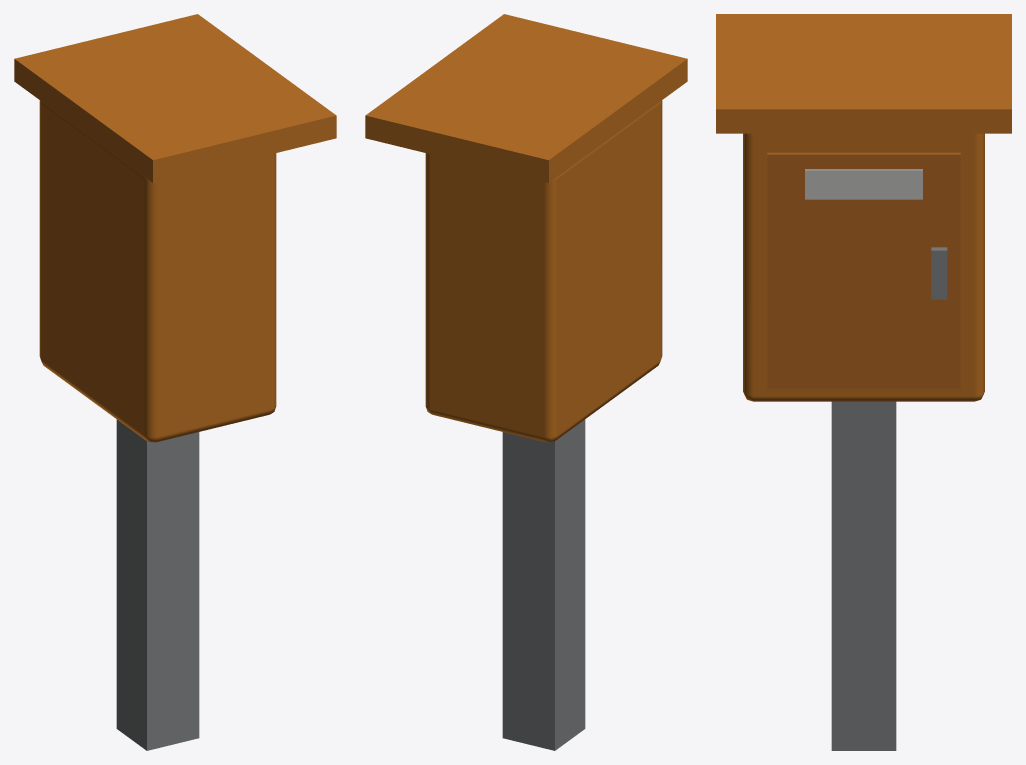
File: SM_Prop_fast_phone_0.glb
The picture shows the model from 3 angles, left to right: view 1: azimuth 30°, elevation 25°; view 2: azimuth 150°, elevation 25°; view 3: azimuth 270°, elevation 25°; orthographic projection. The views are drawn at different scales.
Parts seen in each view (by area): view 1: SM_Prop_fast_phone_0; view 2: SM_Prop_fast_phone_0; view 3: SM_Prop_fast_phone_0.
Part boxes in pixels (bbox=[...]): SM_Prop_fast_phone_0: bbox=[14, 14, 336, 750]; SM_Prop_fast_phone_0: bbox=[365, 14, 687, 750]; SM_Prop_fast_phone_0: bbox=[716, 14, 1011, 750].
Size of the model in its own units: 0.42 by 1.41 by 0.55.
